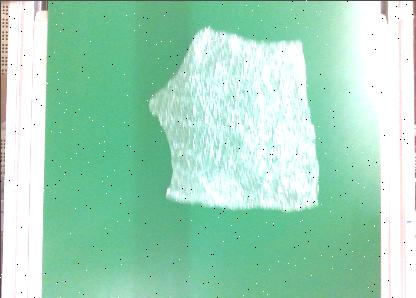Others: (148, 23, 320, 211)
